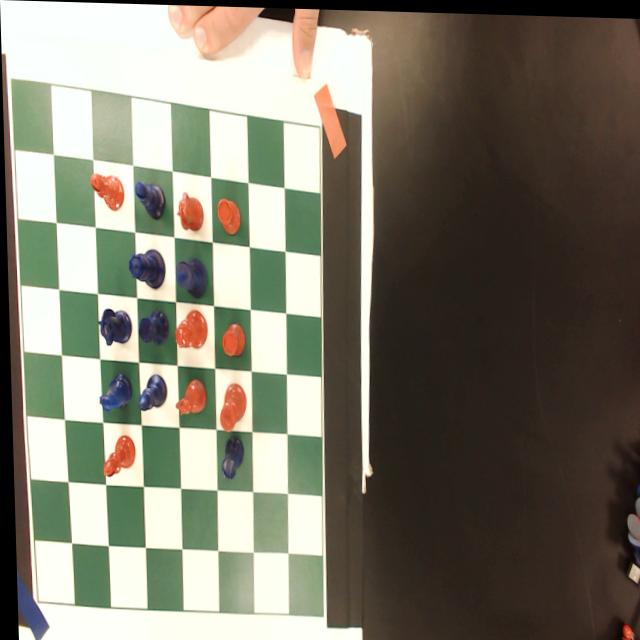B: (132, 173, 165, 222), (134, 372, 167, 414)
K: (173, 252, 208, 299)
N: (95, 303, 132, 350), (95, 369, 130, 416)
Q: (125, 245, 165, 292)
R: (135, 305, 168, 348), (217, 432, 244, 481)
b: (88, 165, 125, 214), (99, 433, 134, 480)
k: (217, 381, 246, 434)
n: (171, 375, 206, 418), (173, 188, 204, 233)
q: (170, 309, 207, 351)
r: (213, 193, 240, 236), (218, 319, 244, 357)
